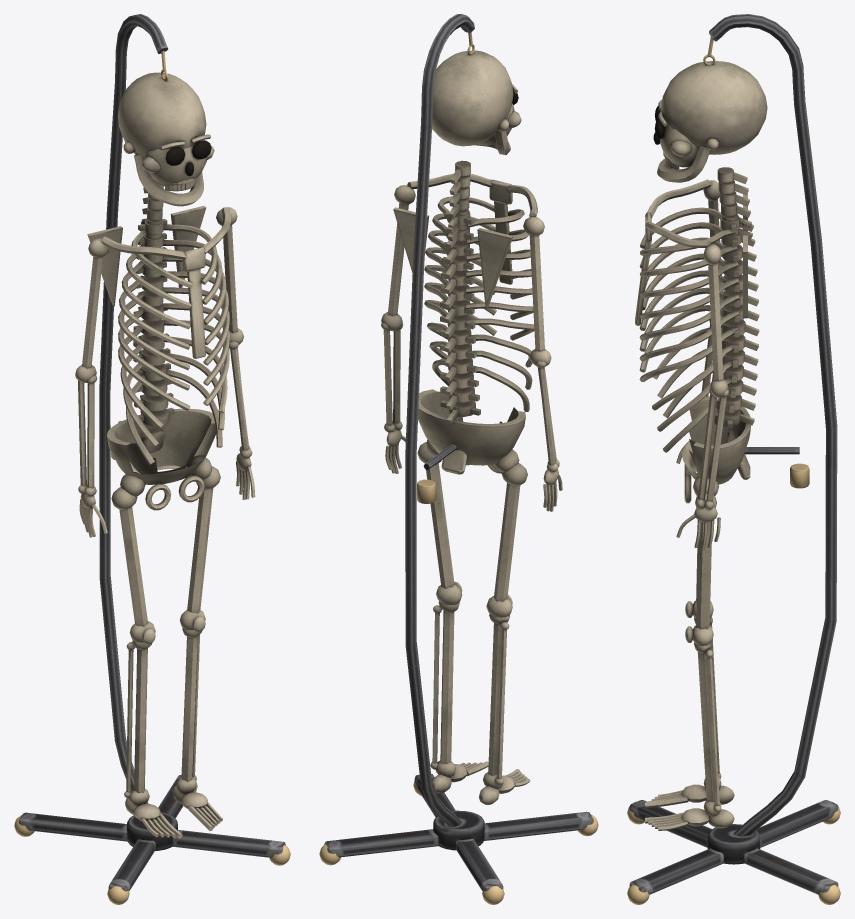
Rendered from AnatomySkeleton.fbx.
The picture shows the model from 3 angles, left to right: view 1: azimuth 30°, elevation 25°; view 2: azimuth 150°, elevation 25°; view 3: azimuth 270°, elevation 25°; orthographic projection. The views are drawn at different scales.
Visible parts, largest first — view 1: AnatomySkeleton; view 2: AnatomySkeleton; view 3: AnatomySkeleton.
Part boxes in pixels (x1=…): AnatomySkeleton: x1=14, y1=14, x2=290, y2=904; AnatomySkeleton: x1=319, y1=14, x2=598, y2=904; AnatomySkeleton: x1=627, y1=14, x2=840, y2=904.
Bounding box in the file's own units: 130 × 569 × 130.
